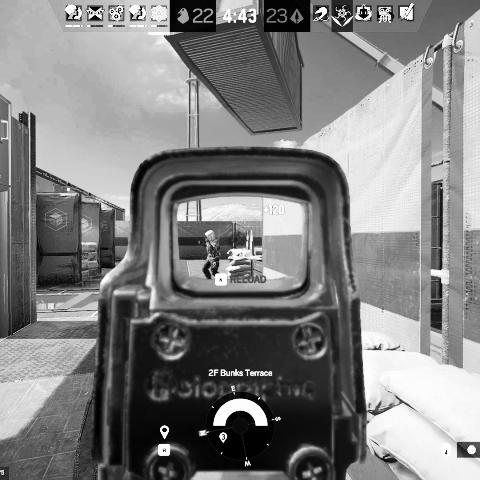Character: (197, 229, 222, 282)
Head: (205, 230, 215, 242)
